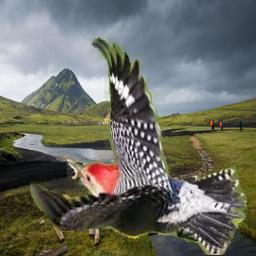Woodpecker: (30, 37, 247, 255)
